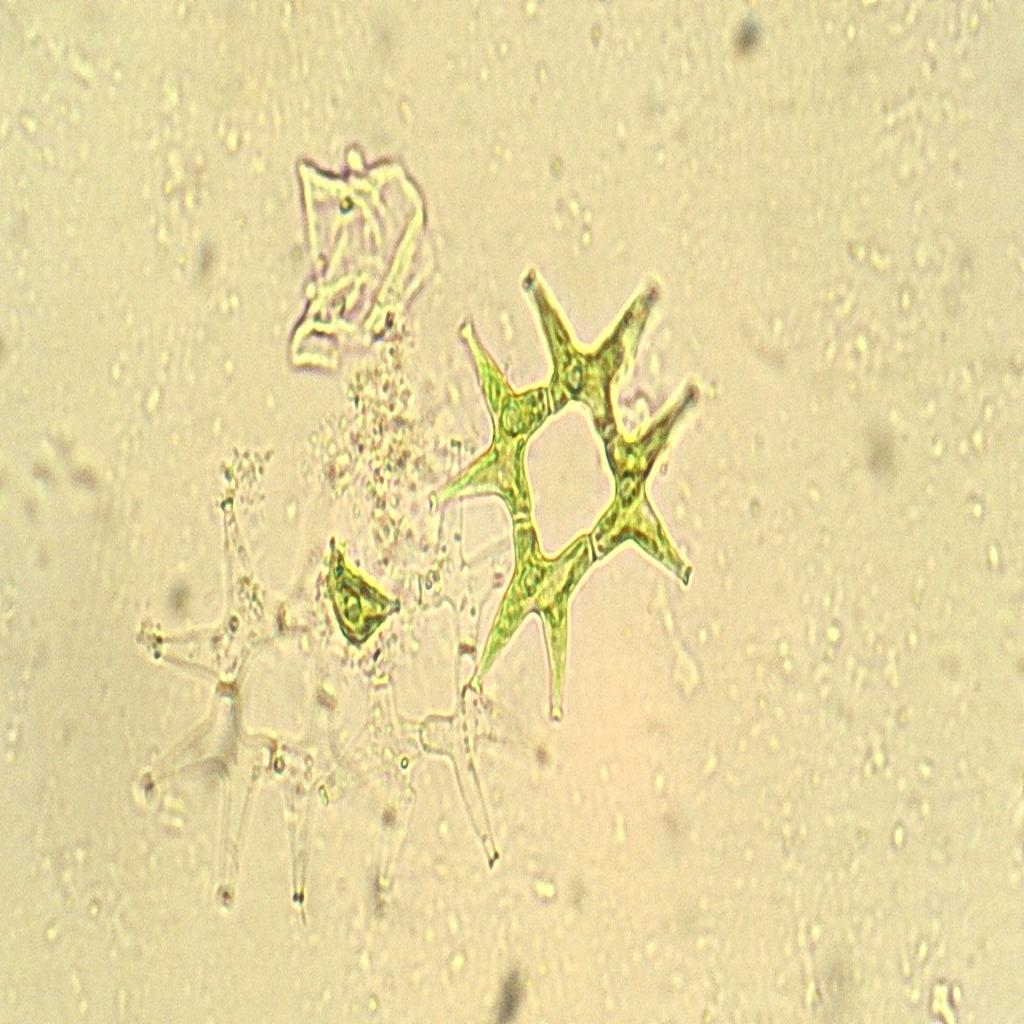Pediastrum_75O: (422, 232, 707, 739)
